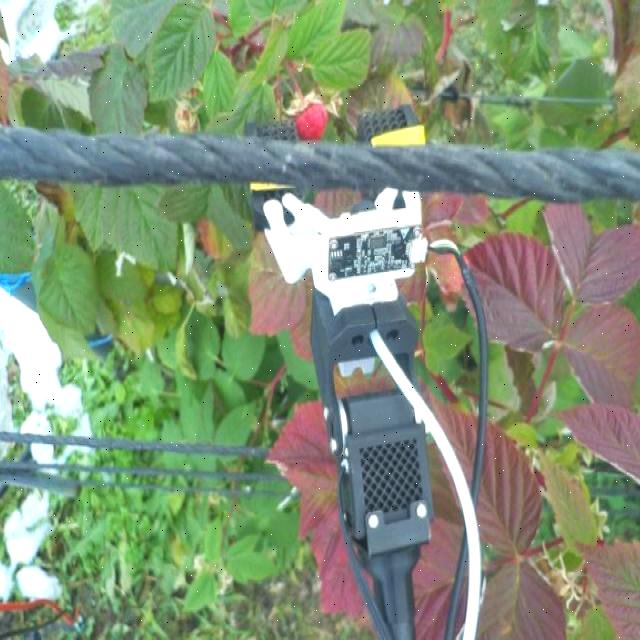Riped berries: (292, 98, 329, 142)
